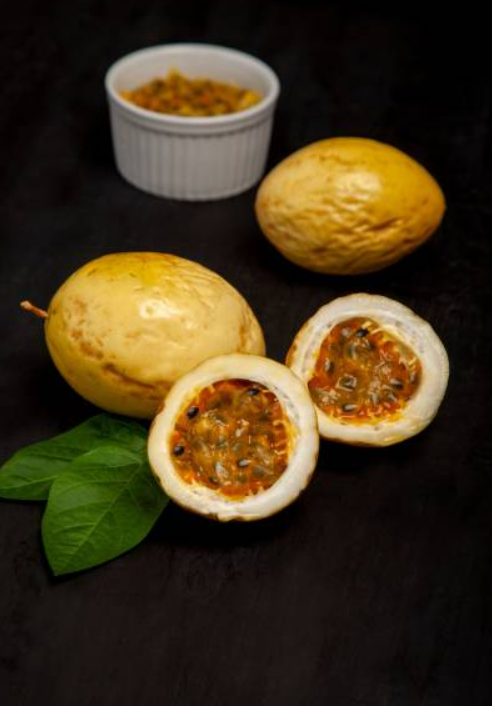maracuya: (35, 245, 274, 424), (248, 129, 451, 280)
